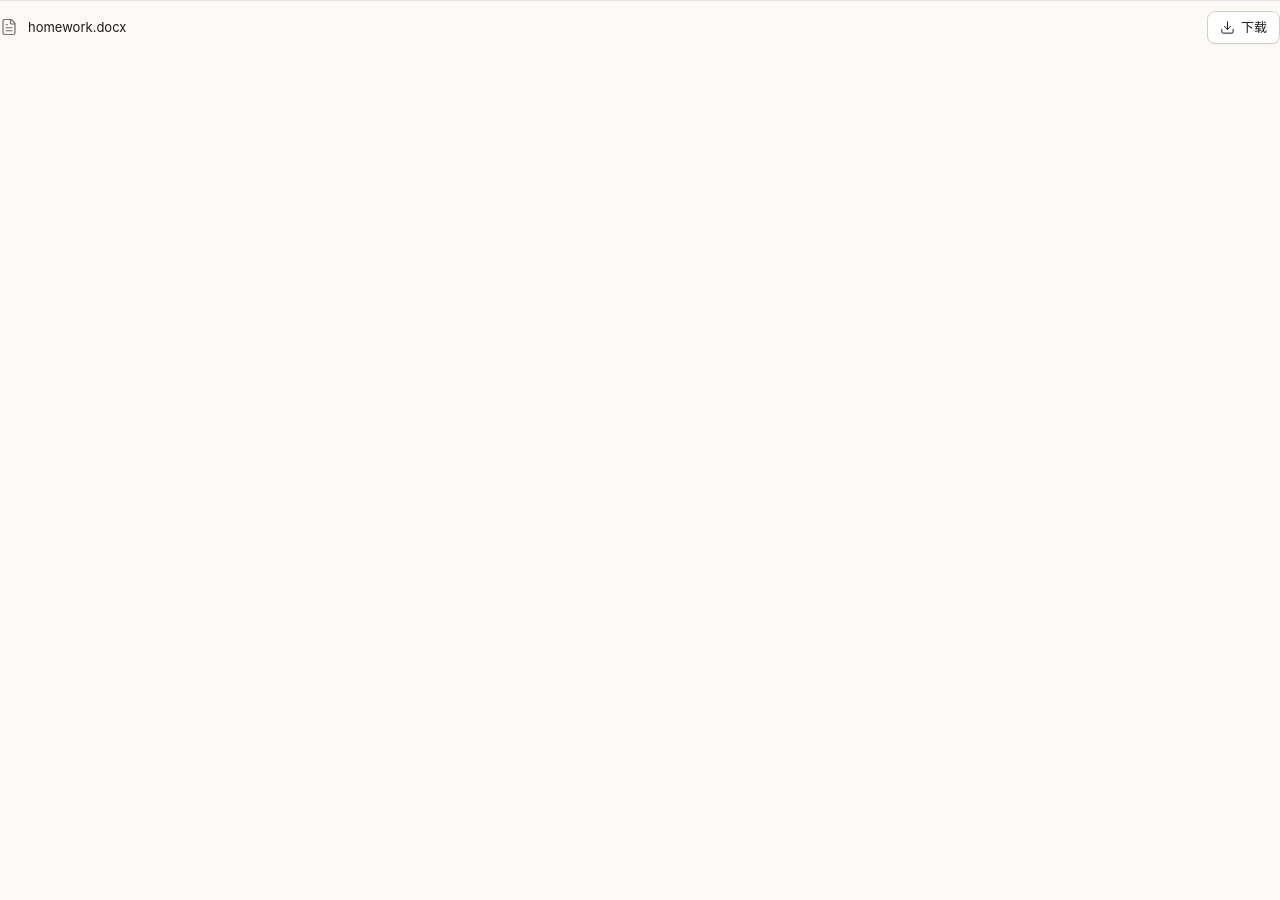
offers the default application for unsupported formats
Later steps or results of the test are not shown.
Click the button "homework.docx" at [77, 27], box left=28, top=15, right=1197, bottom=40
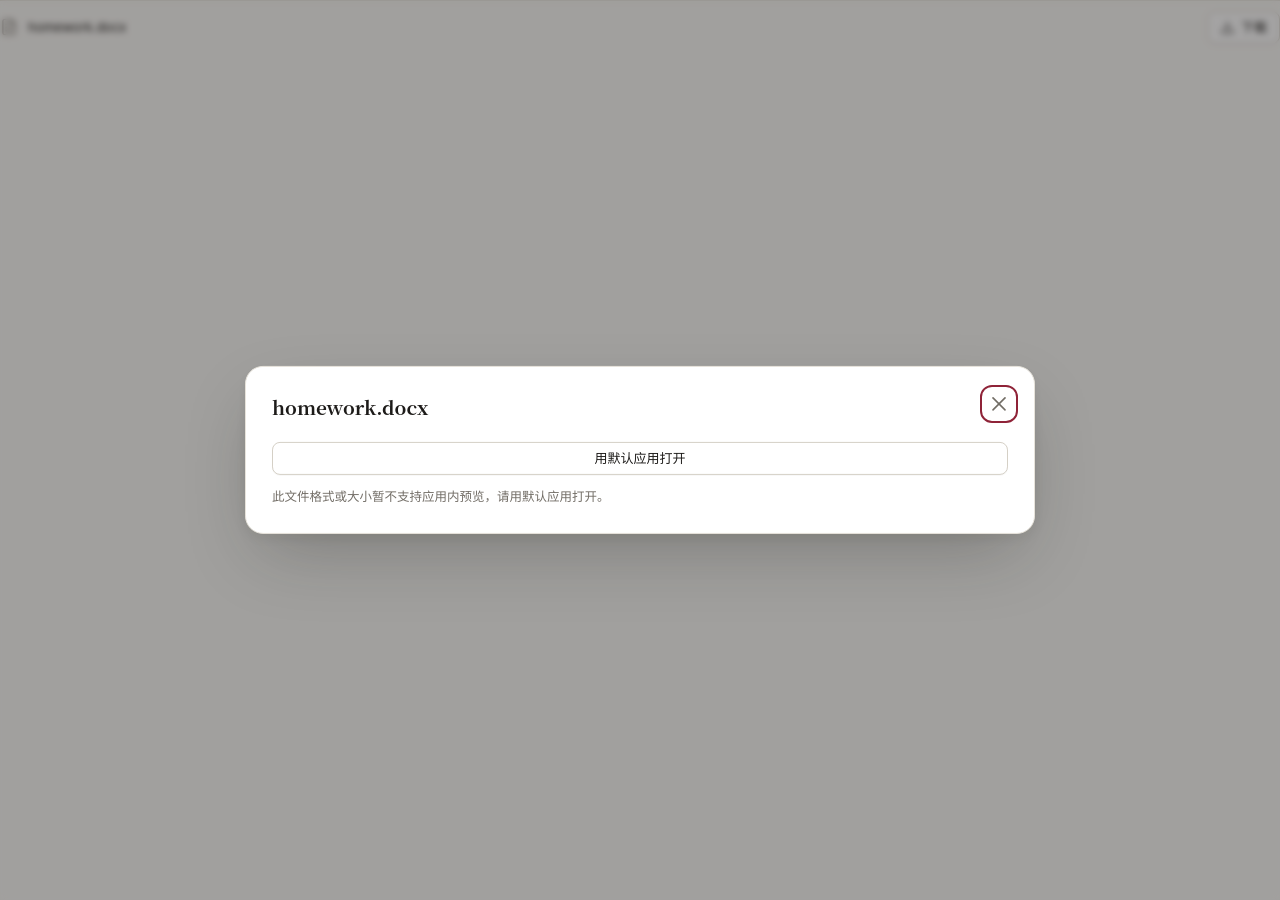
Expected: the text "此文件格式或大小暂不支持应用内预览，请用默认应用打开。" is shown, left=272, top=489, right=610, bottom=504
